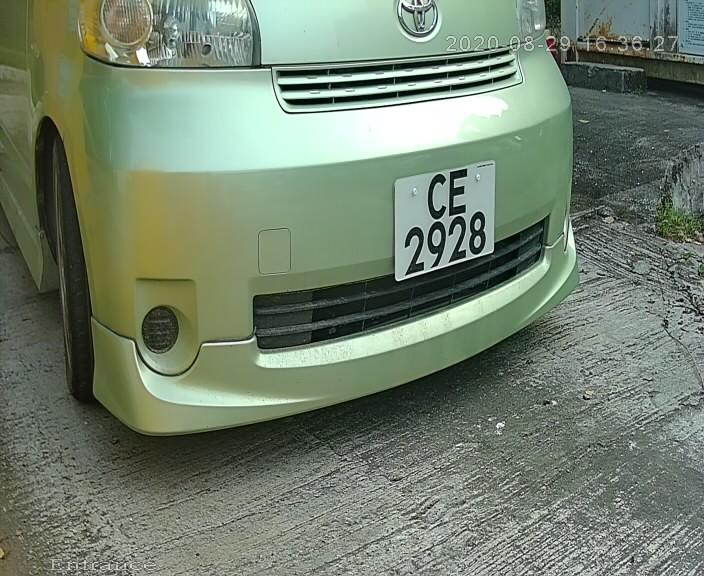License Plate: (363, 133, 517, 305)
